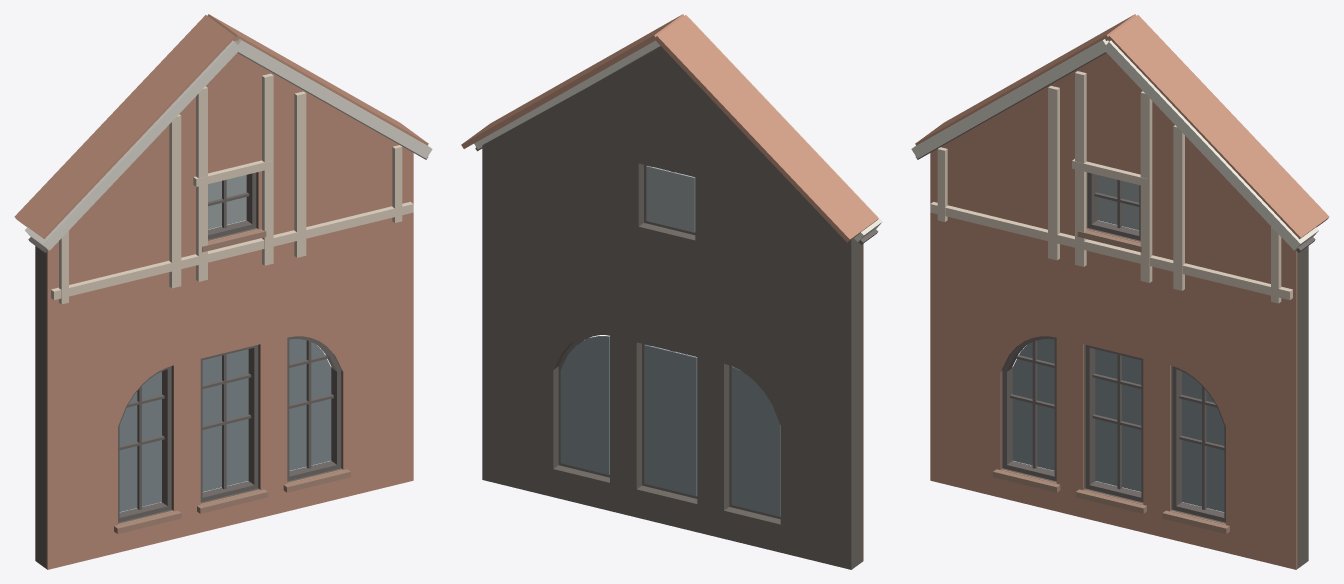
The model's file is jingan-sumitomo-staff-house-gable-lod.glb.
3 views of the same model, side by side, from view 1: azimuth 30°, elevation 25°; view 2: azimuth 150°, elevation 25°; view 3: azimuth 330°, elevation 25° (orthographic).
Parts seen in each view (by area): view 1: 司米托莫银行职员宿舍（培进中学6号楼）胶州路侧山墙三联窗; view 2: 司米托莫银行职员宿舍（培进中学6号楼）胶州路侧山墙三联窗; view 3: 司米托莫银行职员宿舍（培进中学6号楼）胶州路侧山墙三联窗.
Boxes of the visible parts, <box> form: 司米托莫银行职员宿舍（培进中学6号楼）胶州路侧山墙三联窗: <box>14,14,432,569</box>; 司米托莫银行职员宿舍（培进中学6号楼）胶州路侧山墙三联窗: <box>461,14,882,569</box>; 司米托莫银行职员宿舍（培进中学6号楼）胶州路侧山墙三联窗: <box>911,14,1329,569</box>.
Bounding box in the file's own units: 5.97 × 7.24 × 0.82.
